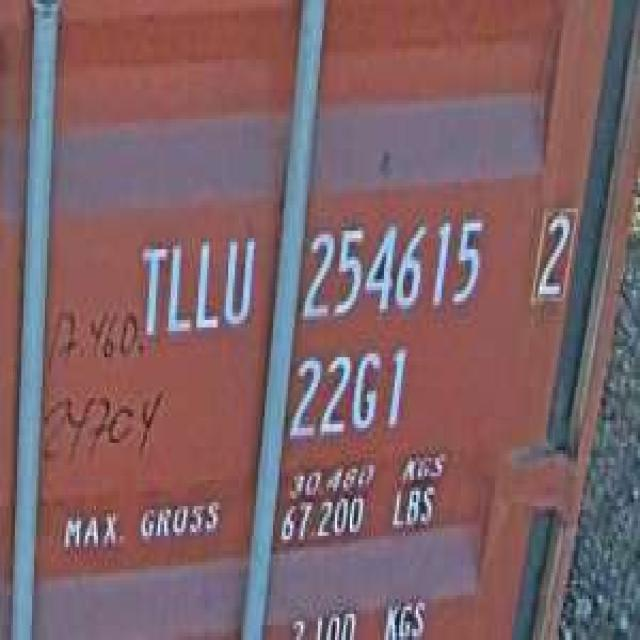dv: (529, 197, 578, 316)
owner: (132, 220, 258, 346)
serial: (296, 205, 488, 328)
size: (284, 338, 412, 446)
